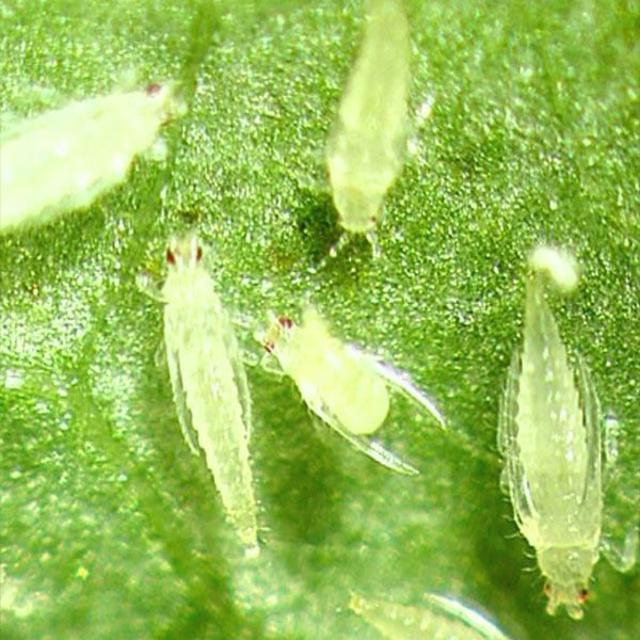Thrip-Larva-: (117, 232, 276, 556), (479, 255, 613, 629), (312, 2, 424, 267)
